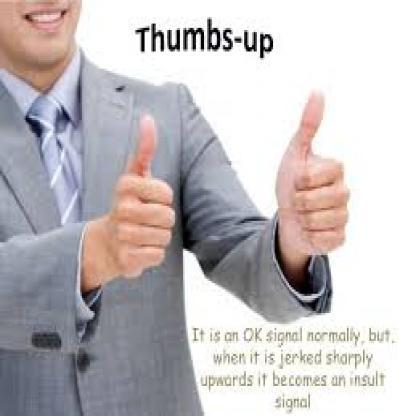thumb_up: (270, 85, 352, 258), (106, 110, 175, 280)
